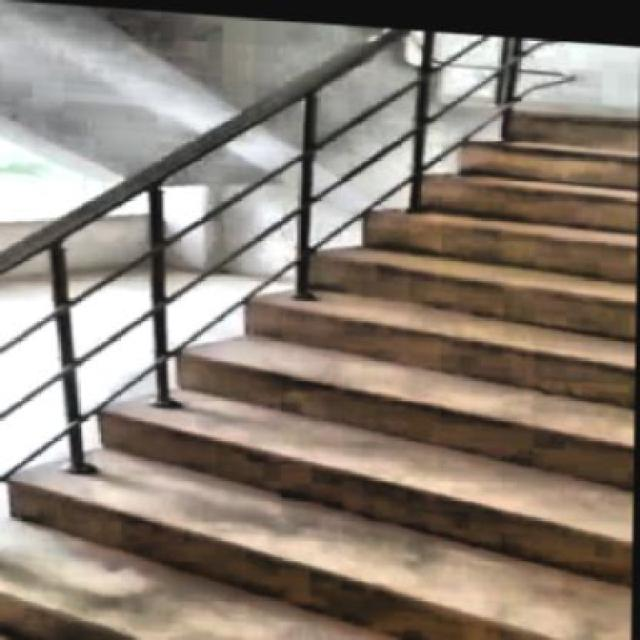stair: (0, 58, 638, 638)
